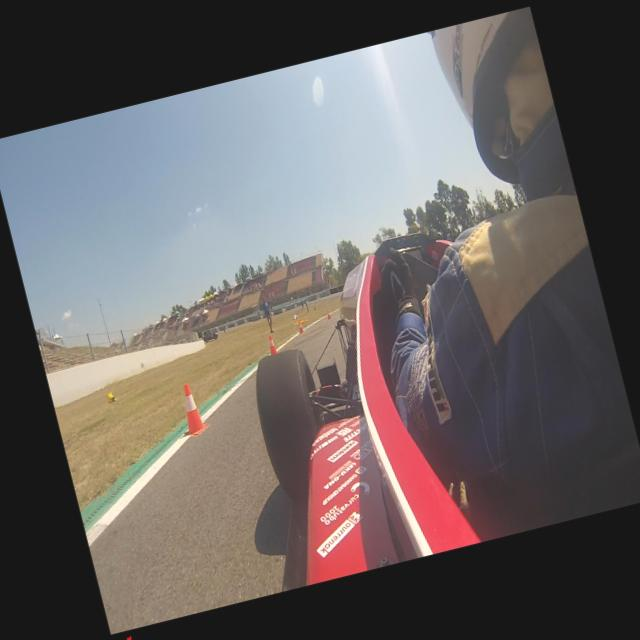orange_cone: (173, 379, 210, 436), (266, 334, 276, 354), (297, 320, 303, 332), (326, 309, 331, 319)
yellow_cone: (105, 390, 117, 403)
